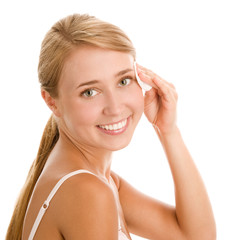teen: (60, 33, 147, 144)
